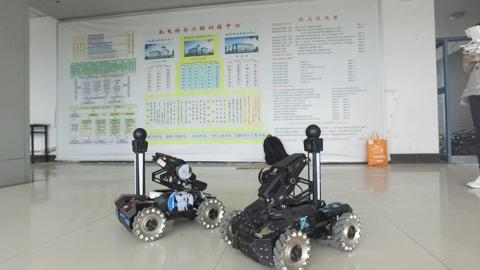chariot: (226, 117, 371, 269), (108, 125, 226, 240)
